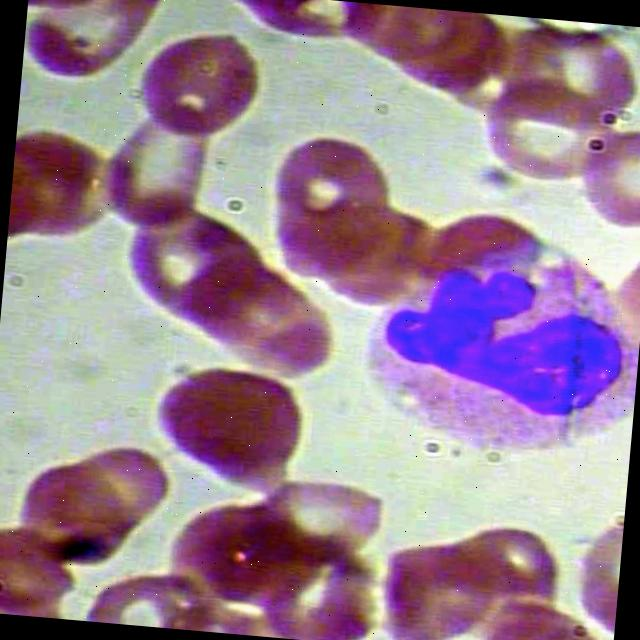RBC: (146, 356, 308, 496), (91, 100, 215, 242), (127, 27, 263, 142), (20, 0, 156, 86), (571, 117, 640, 231)
WBC: (347, 212, 640, 472)
